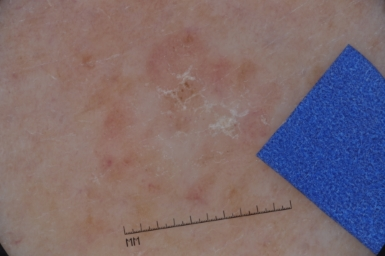seborrheic keratosis: (123, 27, 260, 149)
